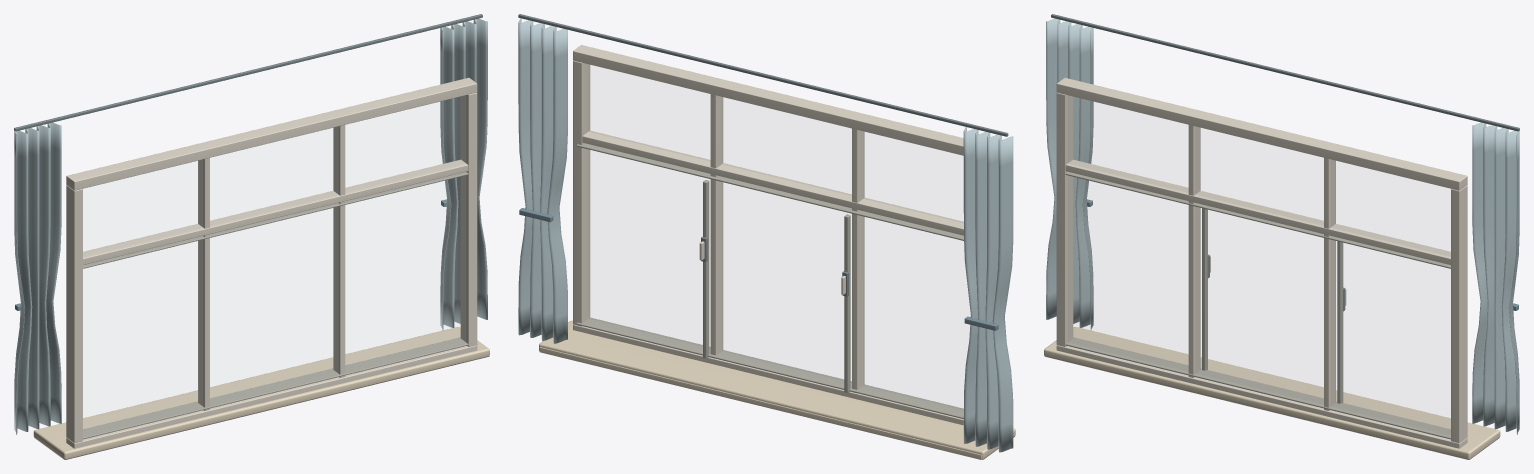
Rendered from prop_window_warm_v1.glb.
3 renders of one model, left to right at view 1: azimuth 30°, elevation 25°; view 2: azimuth 150°, elevation 25°; view 3: azimuth 330°, elevation 25°, orthographic. The views are drawn at different scales.
Parts seen in each view (by area): view 1: Window_frame, Window_curtain, Window_sill, Window_rail, Window_handle; view 2: Window_curtain, Window_frame, Window_sill, Window_rail, Window_handle, Window_tie; view 3: Window_frame, Window_curtain, Window_sill, Window_rail, Window_handle.
Part boxes in pixels (left/top/right/bottom): Window_frame: left=66, top=77, right=477, bottom=448; Window_curtain: left=14, top=18, right=487, bottom=434; Window_sill: left=33, top=327, right=489, bottom=459; Window_rail: left=83, top=172, right=468, bottom=439; Window_handle: left=14, top=14, right=482, bottom=131; Window_curtain: left=518, top=18, right=1013, bottom=452; Window_frame: left=573, top=45, right=963, bottom=425; Window_sill: left=539, top=320, right=1015, bottom=459; Window_rail: left=576, top=143, right=963, bottom=418; Window_handle: left=518, top=14, right=1008, bottom=296; Window_tie: left=519, top=208, right=998, bottom=330; Window_frame: left=1056, top=77, right=1467, bottom=448; Window_curtain: left=1046, top=18, right=1519, bottom=434; Window_sill: left=1044, top=327, right=1500, bottom=459; Window_rail: left=1065, top=172, right=1450, bottom=439; Window_handle: left=1051, top=14, right=1519, bottom=311.
Bounding box in the file's own units: 3.27 × 2.1 × 0.4185.
